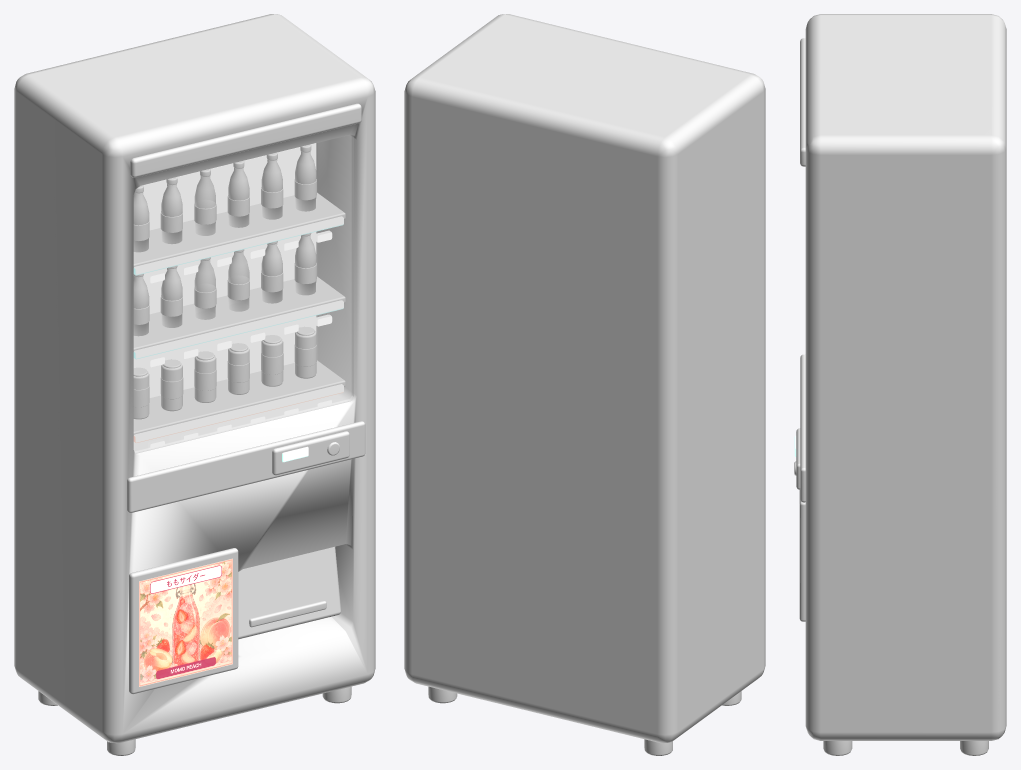
Rendered from prop_vending_pink.glb.
3 renders of one model, left to right at view 1: azimuth 30°, elevation 25°; view 2: azimuth 150°, elevation 25°; view 3: azimuth 270°, elevation 25°, orthographic.
Visible parts, largest first — view 1: Prop_Vending_Pink_Cabinet, Prop_Vending_Pink_Glass, Prop_Vending_Pink, Prop_Vending_Pink_PosterArt, Prop_Vending_Pink_BackGlow, Prop_Vending_Pink_MidBand, Prop_Vending_Pink_DispenserFlap, Prop_Vending_Pink_HeaderStripe, Prop_Vending_Pink_PosterFrame, Prop_Vending_Pink_CoinPanel, Prop_Vending_Pink_PushBar; view 2: Prop_Vending_Pink_Cabinet; view 3: Prop_Vending_Pink_Cabinet, Prop_Vending_Pink_MidBand, Prop_Vending_Pink_PosterFrame, Prop_Vending_Pink_HeaderStripe, Prop_Vending_Pink_Foot.002, Prop_Vending_Pink_Foot.003.
Boxes of the visible parts, left/top/right/bottom form: Prop_Vending_Pink_Cabinet: left=14, top=14, right=375, bottom=743; Prop_Vending_Pink_Glass: left=133, top=135, right=353, bottom=453; Prop_Vending_Pink: left=133, top=144, right=345, bottom=449; Prop_Vending_Pink_PosterArt: left=139, top=558, right=232, bottom=686; Prop_Vending_Pink_BackGlow: left=133, top=143, right=316, bottom=397; Prop_Vending_Pink_MidBand: left=127, top=421, right=365, bottom=512; Prop_Vending_Pink_DispenserFlap: left=238, top=546, right=341, bottom=639; Prop_Vending_Pink_HeaderStripe: left=130, top=103, right=361, bottom=177; Prop_Vending_Pink_PosterFrame: left=129, top=548, right=238, bottom=694; Prop_Vending_Pink_CoinPanel: left=272, top=431, right=349, bottom=475; Prop_Vending_Pink_PushBar: left=249, top=601, right=326, bottom=627; Prop_Vending_Pink_Cabinet: left=404, top=14, right=765, bottom=743; Prop_Vending_Pink_Cabinet: left=805, top=14, right=1006, bottom=740; Prop_Vending_Pink_MidBand: left=800, top=354, right=805, bottom=502; Prop_Vending_Pink_PosterFrame: left=799, top=490, right=805, bottom=621; Prop_Vending_Pink_HeaderStripe: left=800, top=38, right=805, bottom=166; Prop_Vending_Pink_Foot.002: left=823, top=741, right=852, bottom=755; Prop_Vending_Pink_Foot.003: left=960, top=741, right=988, bottom=755.
Bounding box in the file's own units: 0.78 × 1.71 × 0.528.
Materials: 21 (1 with a texture image).
